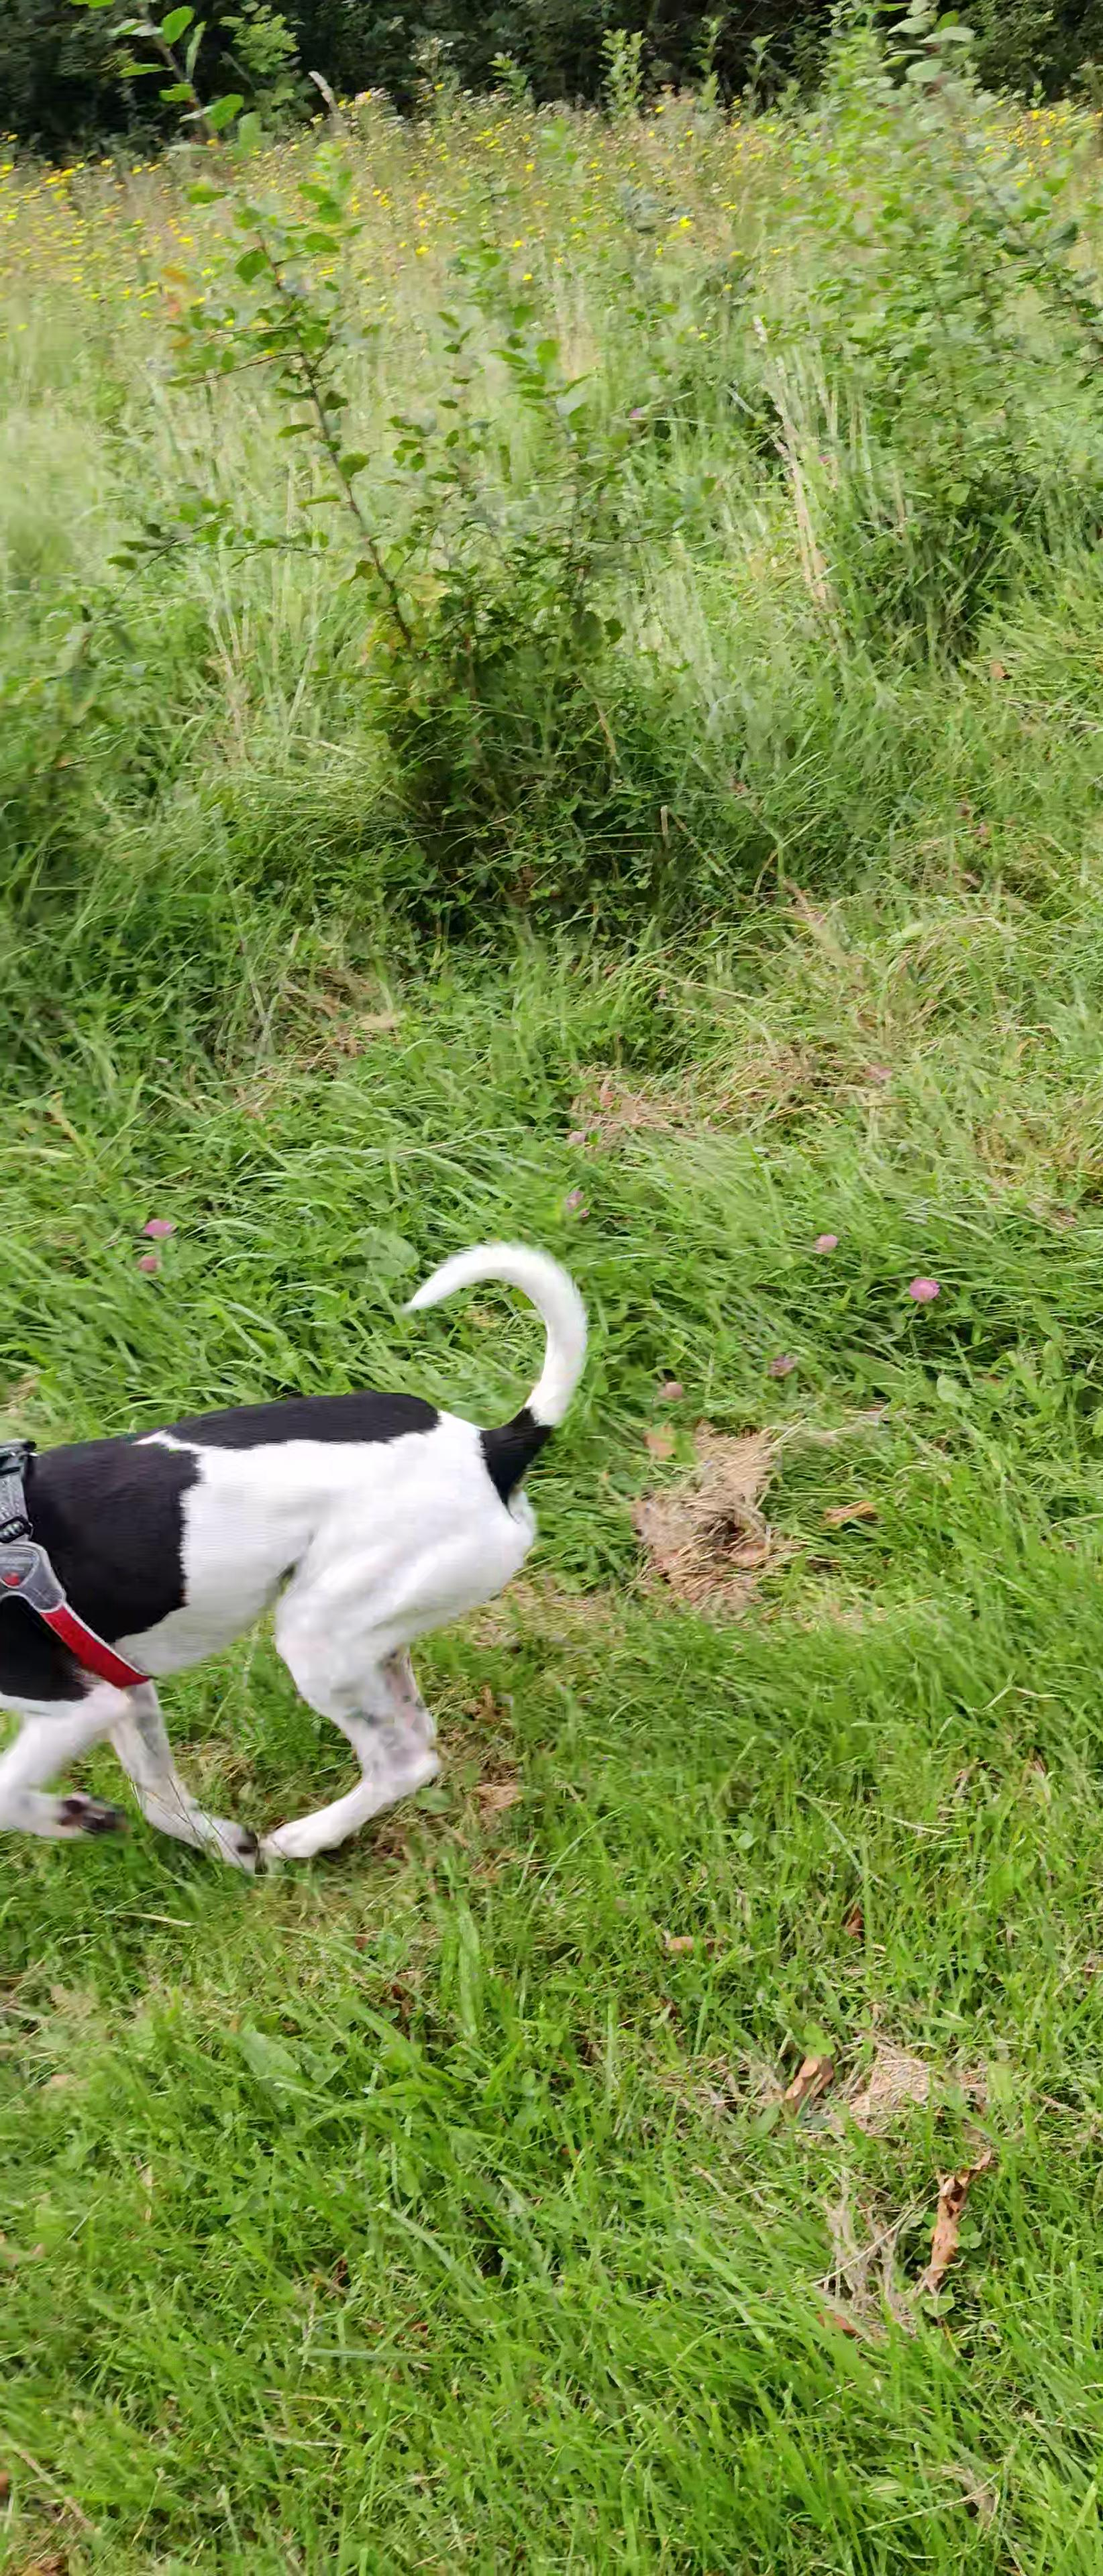Dog: (0, 1239, 595, 1868)
